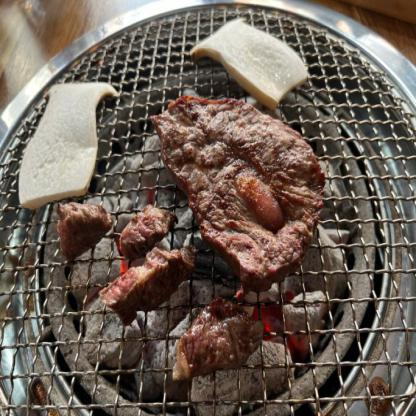Carne: (152, 82, 317, 292), (102, 240, 202, 322), (171, 295, 260, 376), (48, 201, 115, 267), (113, 198, 186, 252)
